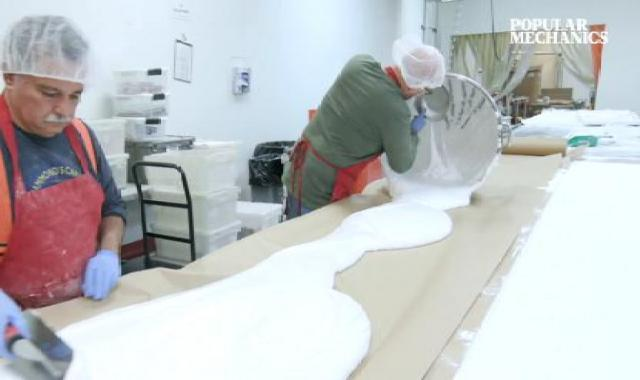hairnet: (0, 14, 108, 80), (394, 39, 450, 94)
